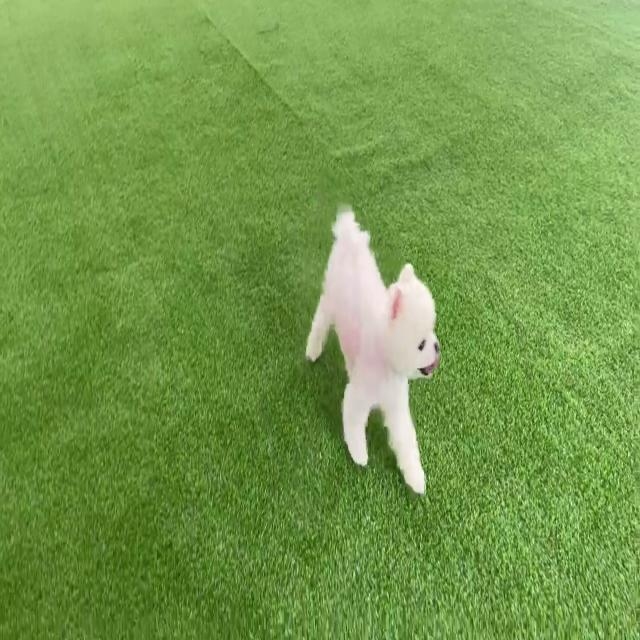Dog: (306, 207, 440, 496)
